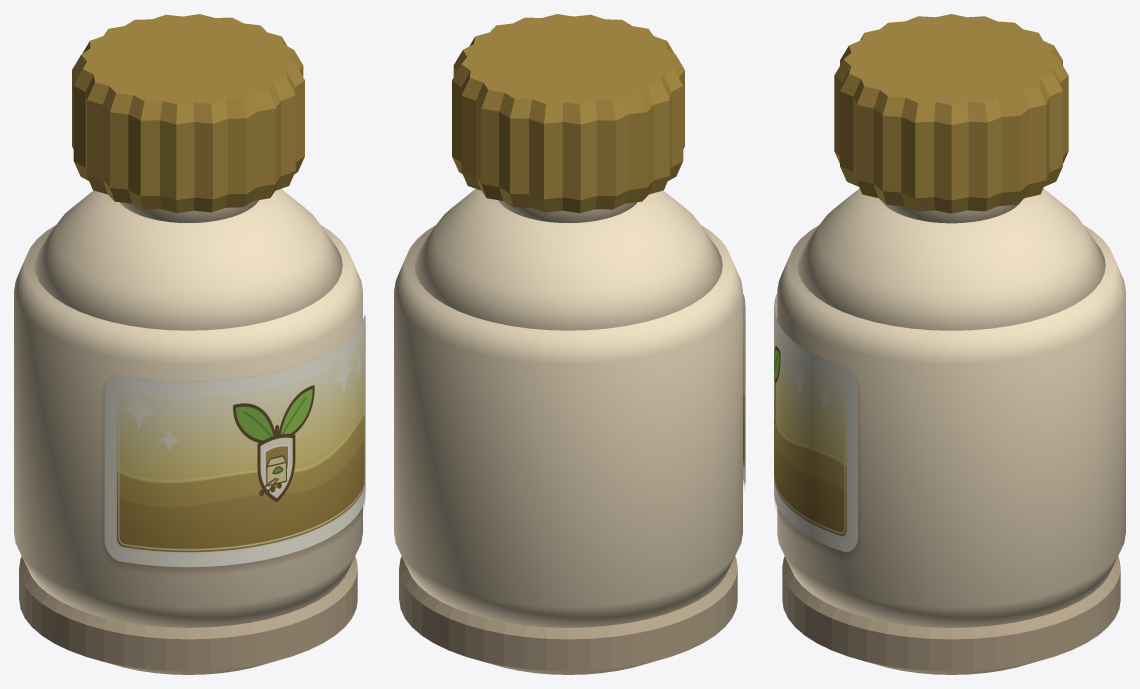
File: LiquidPreparationBottleFertilizer.glb
3 views of the same model, side by side, from view 1: azimuth 30°, elevation 25°; view 2: azimuth 150°, elevation 25°; view 3: azimuth 270°, elevation 25° (orthographic).
Visible parts, largest first — view 1: LiquidPreparationBottleFertilizer_Body, LiquidPreparationBottleFertilizer_Label, LiquidPreparationBottleFertilizer_Cap, LiquidPreparationBottleFertilizer_Shoulder, LiquidPreparationBottleFertilizer_Base_Rim, LiquidPreparationBottleFertilizer_Neck; view 2: LiquidPreparationBottleFertilizer_Body, LiquidPreparationBottleFertilizer_Cap, LiquidPreparationBottleFertilizer_Shoulder, LiquidPreparationBottleFertilizer_Base_Rim, LiquidPreparationBottleFertilizer_Neck, LiquidPreparationBottleFertilizer_Label; view 3: LiquidPreparationBottleFertilizer_Body, LiquidPreparationBottleFertilizer_Cap, LiquidPreparationBottleFertilizer_Shoulder, LiquidPreparationBottleFertilizer_Label, LiquidPreparationBottleFertilizer_Base_Rim, LiquidPreparationBottleFertilizer_Neck.
Boxes of the visible parts, box(x1,y1,x2,y2) form: LiquidPreparationBottleFertilizer_Body: box(14, 225, 362, 627); LiquidPreparationBottleFertilizer_Label: box(104, 315, 365, 570); LiquidPreparationBottleFertilizer_Cap: box(72, 14, 304, 213); LiquidPreparationBottleFertilizer_Shoulder: box(34, 189, 342, 330); LiquidPreparationBottleFertilizer_Base_Rim: box(19, 556, 357, 674); LiquidPreparationBottleFertilizer_Neck: box(119, 200, 258, 222); LiquidPreparationBottleFertilizer_Body: box(394, 225, 742, 627); LiquidPreparationBottleFertilizer_Cap: box(452, 14, 684, 213); LiquidPreparationBottleFertilizer_Shoulder: box(414, 189, 722, 330); LiquidPreparationBottleFertilizer_Base_Rim: box(399, 556, 737, 674); LiquidPreparationBottleFertilizer_Neck: box(498, 200, 637, 222); LiquidPreparationBottleFertilizer_Label: box(743, 293, 745, 485); LiquidPreparationBottleFertilizer_Body: box(777, 225, 1125, 627); LiquidPreparationBottleFertilizer_Cap: box(834, 14, 1068, 213); LiquidPreparationBottleFertilizer_Shoulder: box(797, 188, 1105, 330); LiquidPreparationBottleFertilizer_Label: box(774, 293, 858, 554); LiquidPreparationBottleFertilizer_Base_Rim: box(782, 556, 1120, 674); LiquidPreparationBottleFertilizer_Neck: box(881, 200, 1021, 223).
Size of the model in its own units: 0.69 by 1.23 by 0.696.
Materials: 5 (1 with a texture image).
